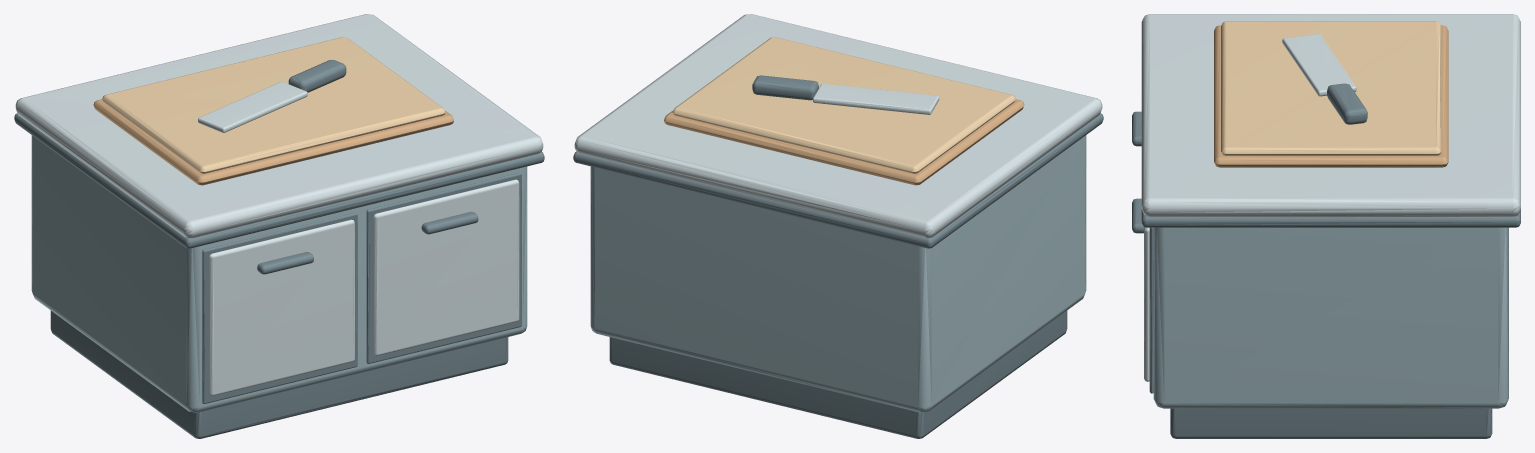
File: PrepCounter.fbx
3 views of the same model, side by side, from view 1: azimuth 30°, elevation 25°; view 2: azimuth 150°, elevation 25°; view 3: azimuth 270°, elevation 25° (orthographic). The views are drawn at different scales.
Parts seen in each view (by area): view 1: PrepCounter.001; view 2: PrepCounter.001; view 3: PrepCounter.001.
Part boxes in pixels (x1,y1,x2,y2): PrepCounter.001: (14, 14, 544, 438); PrepCounter.001: (573, 14, 1103, 438); PrepCounter.001: (1132, 14, 1520, 438).
Bounding box in the file's own units: 1.9 × 1.33 × 1.64.
